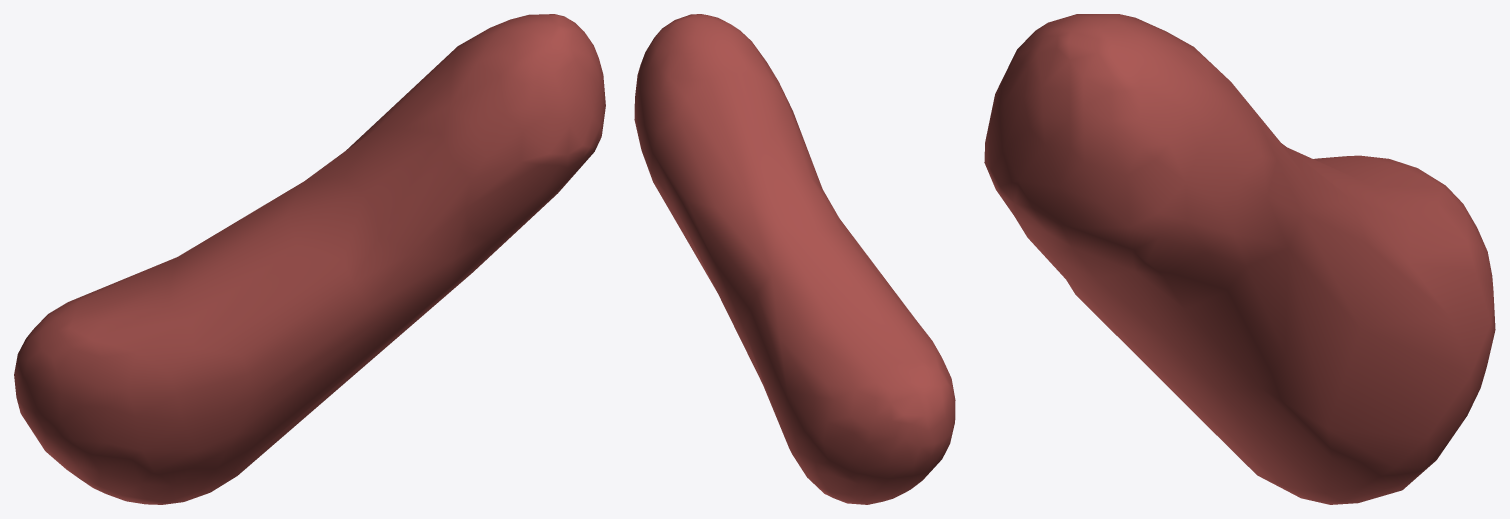
Rendered from FMA73464.glb.
3 renders of one model, left to right at view 1: azimuth 30°, elevation 25°; view 2: azimuth 150°, elevation 25°; view 3: azimuth 270°, elevation 25°, orthographic. The views are drawn at different scales.
Visible parts, largest first — view 1: FMA73464; view 2: FMA73464; view 3: FMA73464.
Boxes of the visible parts, x1=… form: FMA73464: x1=14, y1=14, x2=605, y2=504; FMA73464: x1=634, y1=14, x2=955, y2=504; FMA73464: x1=984, y1=14, x2=1495, y2=504.
Bounding box in the file's own units: 0.0112 × 0.0105 × 0.00726.
